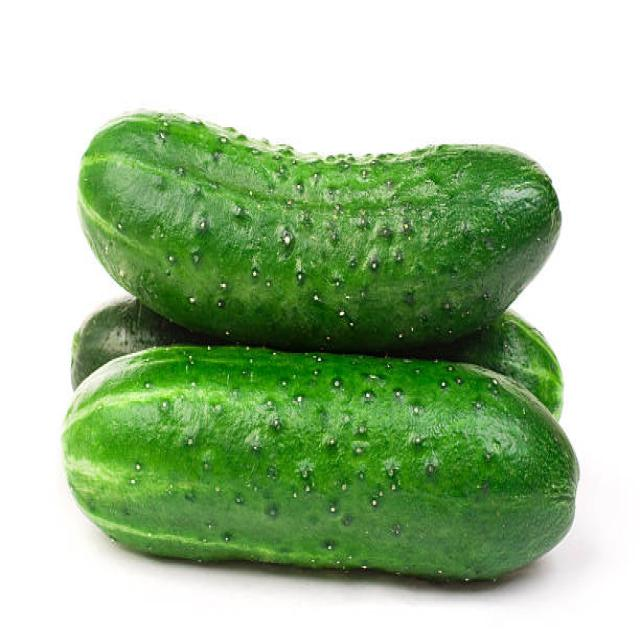cucumber: (61, 340, 580, 584), (76, 109, 560, 354)
